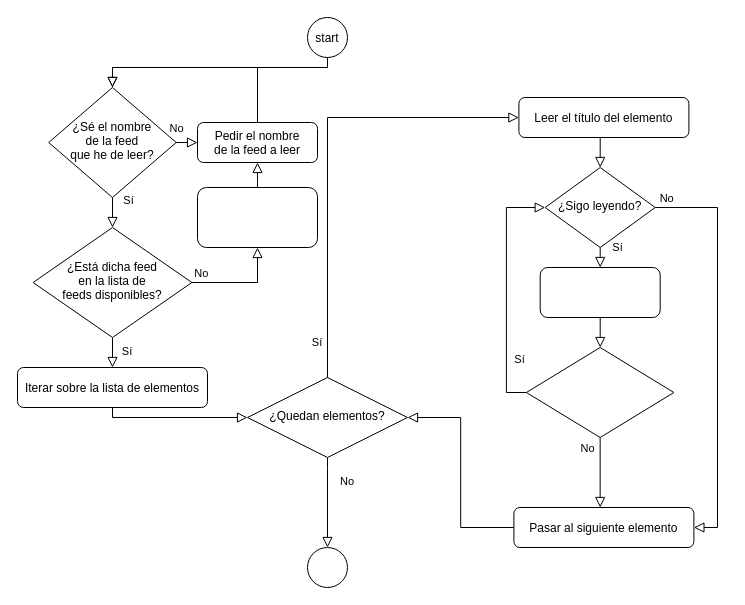
Image size: 745x605. Some labels were removed from this diagram. Each missing label, with the centre of its shape:
"end" goes at point 327,567.
"Indicar al usuario que la feed no está en la lista" goes at point 257,217.
"Leer un fragmento de su contenido" goes at point 599,292.
"¿Queda contenido por leer?" goes at point 599,392.
